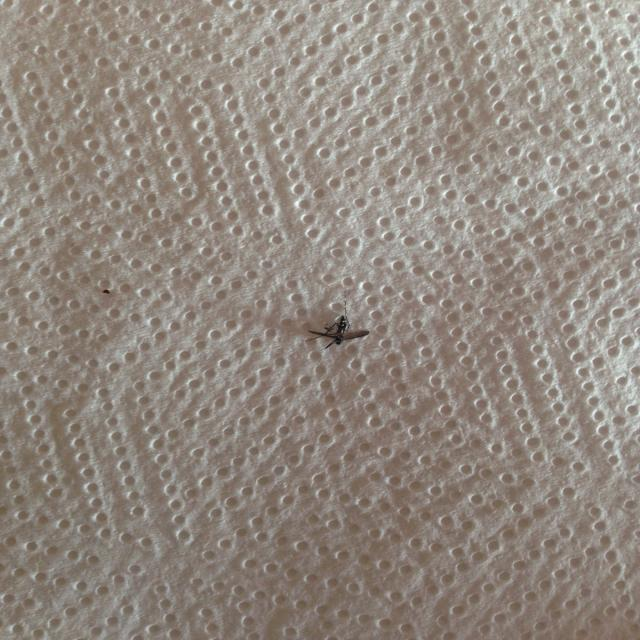albopictus: (302, 306, 372, 354)
